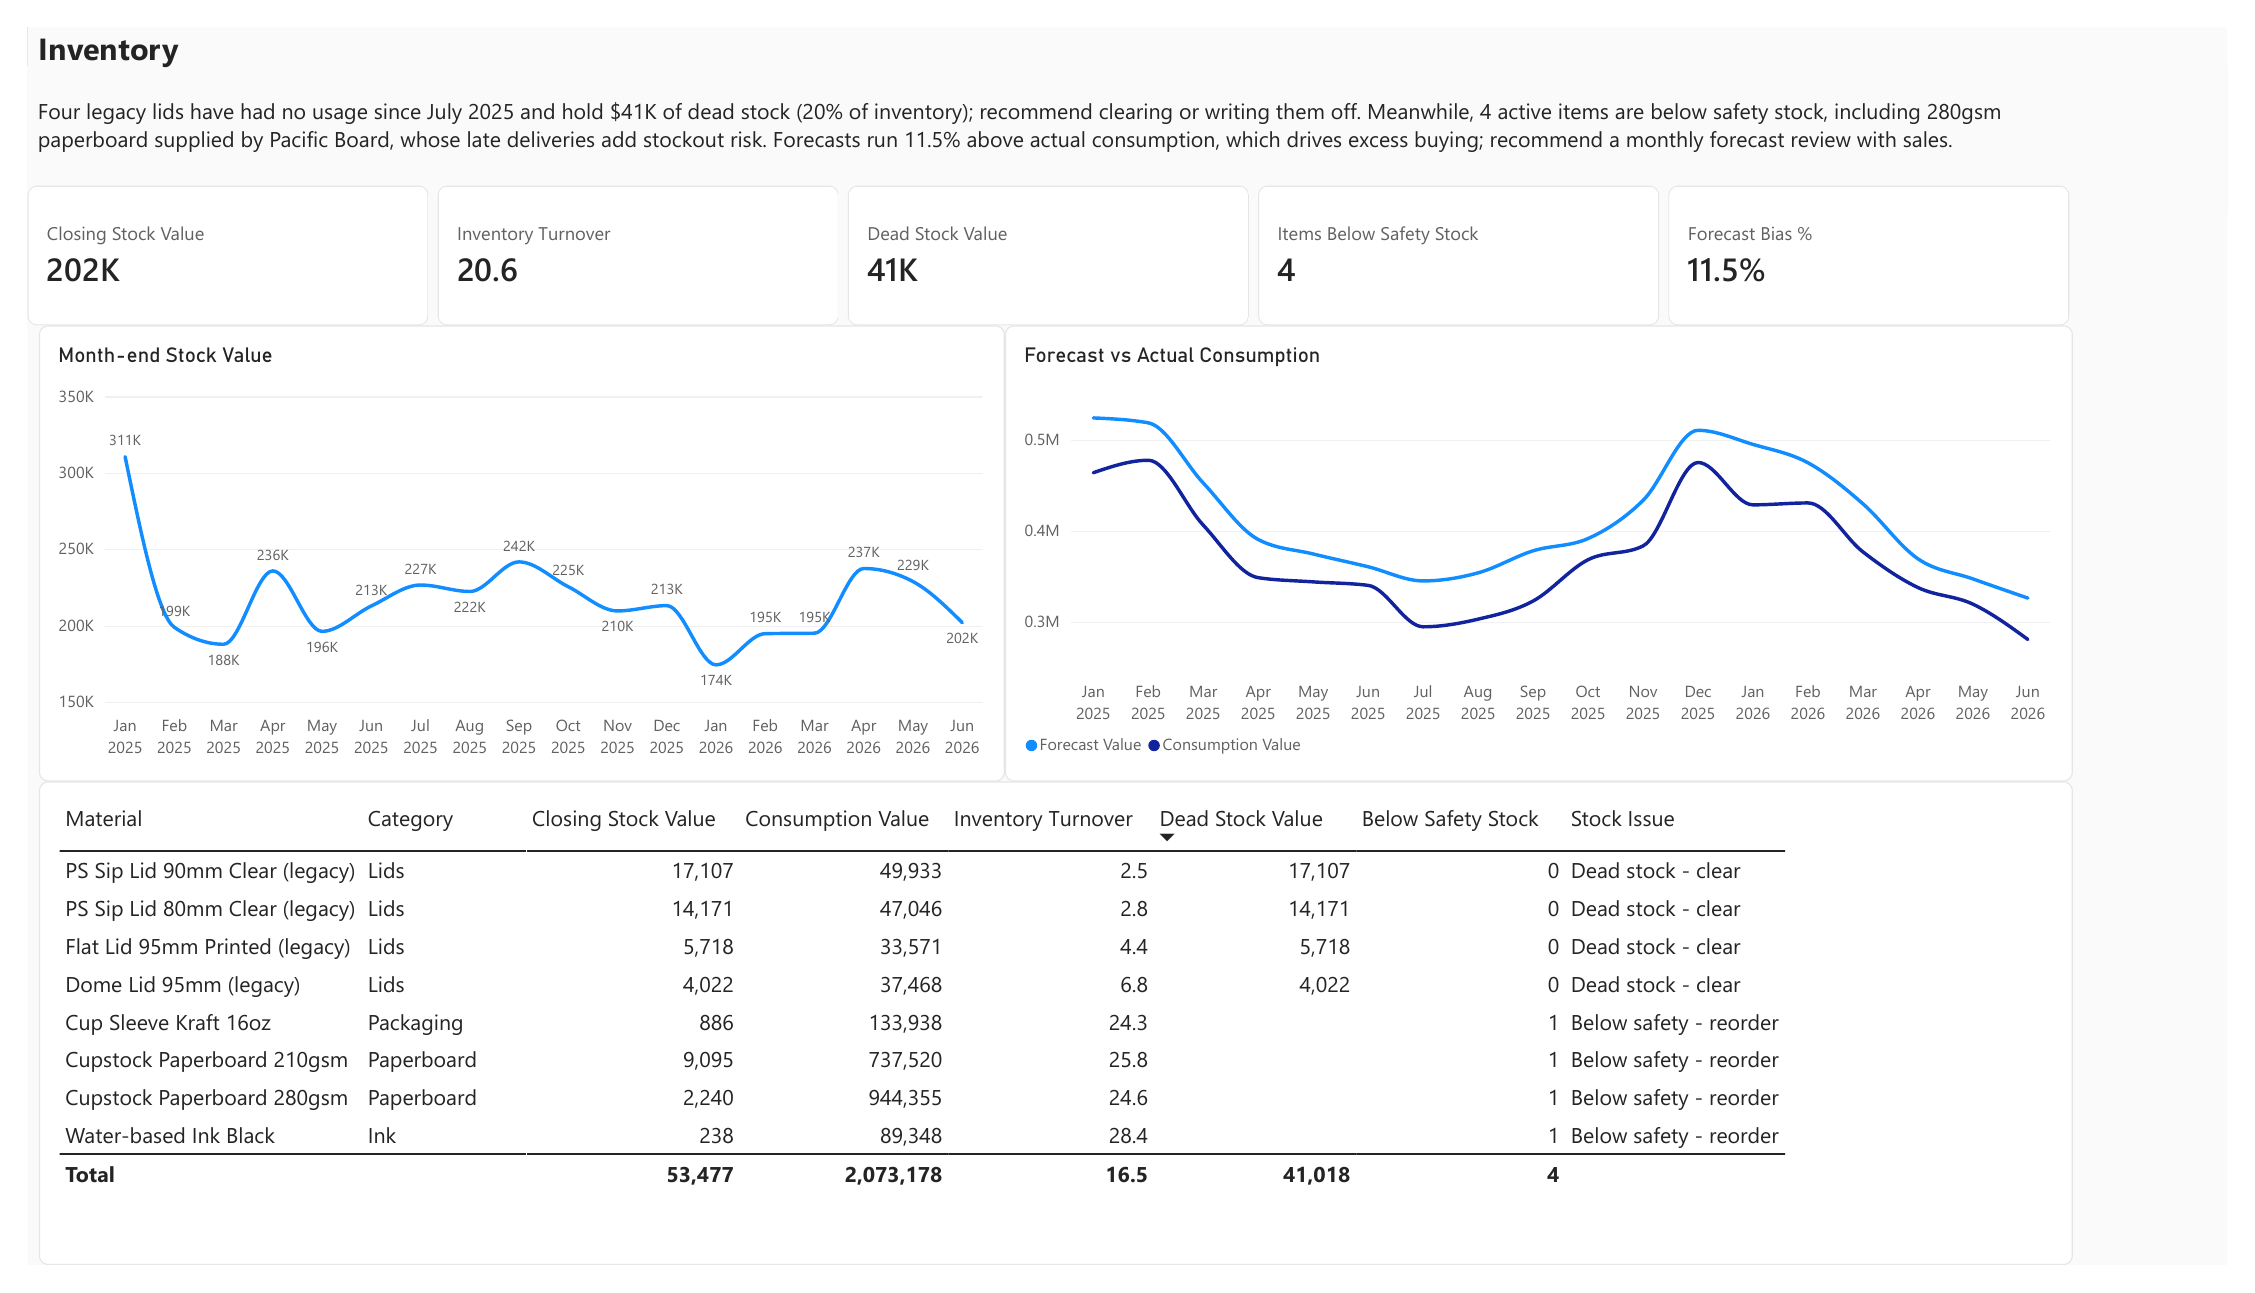

What the dashboard file says about the page in this screenshot:
{"tool":"powerbi","page":{"name":"Inventory","canvas":[1920,1080],"ordinal":4},"visuals":[{"type":"textbox","box":[10,0,280,60],"z":0},{"type":"cardVisual","fields":{"Data":["_Measures.Closing Stock Value","_Measures.Inventory Turnover","_Measures.Dead Stock Value","_Measures.Items Below Safety Stock","_Measures.Forecast Bias %"]},"box":[0,137.5,1784,122],"z":1000},{"type":"textbox","box":[225,856.7,960,178.3],"z":2000},{"type":"textbox","box":[9.3,60.5,1776.7,62.8],"z":3000},{"type":"lineChart","title":"Month-end Stock Value","fields":{"Category":["dim_date.Year Month"],"Y":["_Measures.Closing Stock Value"]},"box":[10,260,842.5,397.5],"z":3001},{"type":"lineChart","title":"Forecast vs Actual Consumption","fields":{"Category":["dim_date.Year Month"],"Y":["_Measures.Forecast Value","_Measures.Consumption Value"]},"box":[852.5,260,932.5,397.5],"z":3002},{"type":"tableEx","fields":{"Values":["dim_material.material_name","dim_category.category_name","_Measures.Closing Stock Value","_Measures.Consumption Value","_Measures.Inventory Turnover","_Measures.Dead Stock Value","_Measures.Items Below Safety Stock","_Measures.Stock Issue"]},"box":[10,657.5,1775,422.5],"z":3003}]}

Visuals, with their boxes in screenshot pixels (x1, y1, x2, y2), scaled from the page's 1920x1080 canvas onto the 2255x1293 screenshot:
textbox: (x1=12, y1=0, x2=341, y2=72)
cardVisual - _Measures.Closing Stock Value x _Measures.Inventory Turnover: (x1=0, y1=165, x2=2095, y2=311)
textbox: (x1=264, y1=1026, x2=1392, y2=1239)
textbox: (x1=11, y1=72, x2=2098, y2=148)
"Month-end Stock Value" lineChart: (x1=12, y1=311, x2=1001, y2=787)
"Forecast vs Actual Consumption" lineChart: (x1=1001, y1=311, x2=2096, y2=787)
tableEx - dim_material.material_name x dim_category.category_name: (x1=12, y1=787, x2=2096, y2=1292)
